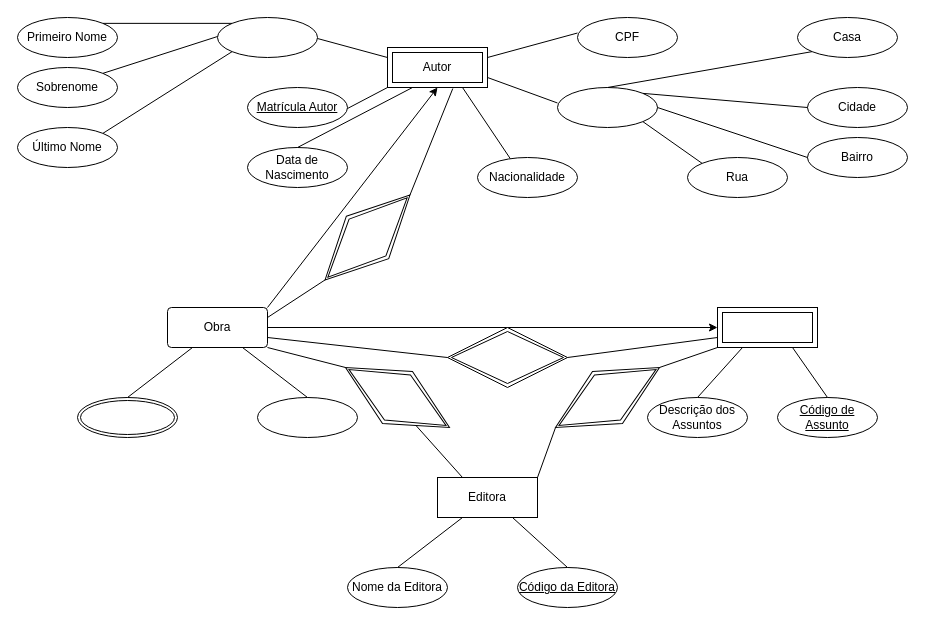
Some shapes in this 925 by 625 pixel diagram are drawn without their labels. Each missing label, with the box of its shape:
Assunto: (716, 306, 818, 348)
Contido: (446, 326, 568, 388)
Controla: (539, 340, 675, 454)
Contém: (303, 173, 431, 301)
Data de publicação: (76, 396, 178, 438)
Endereço: (556, 86, 658, 128)
Nome: (216, 16, 318, 58)
Preço da obra: (256, 396, 358, 438)
Publica: (329, 340, 465, 454)
